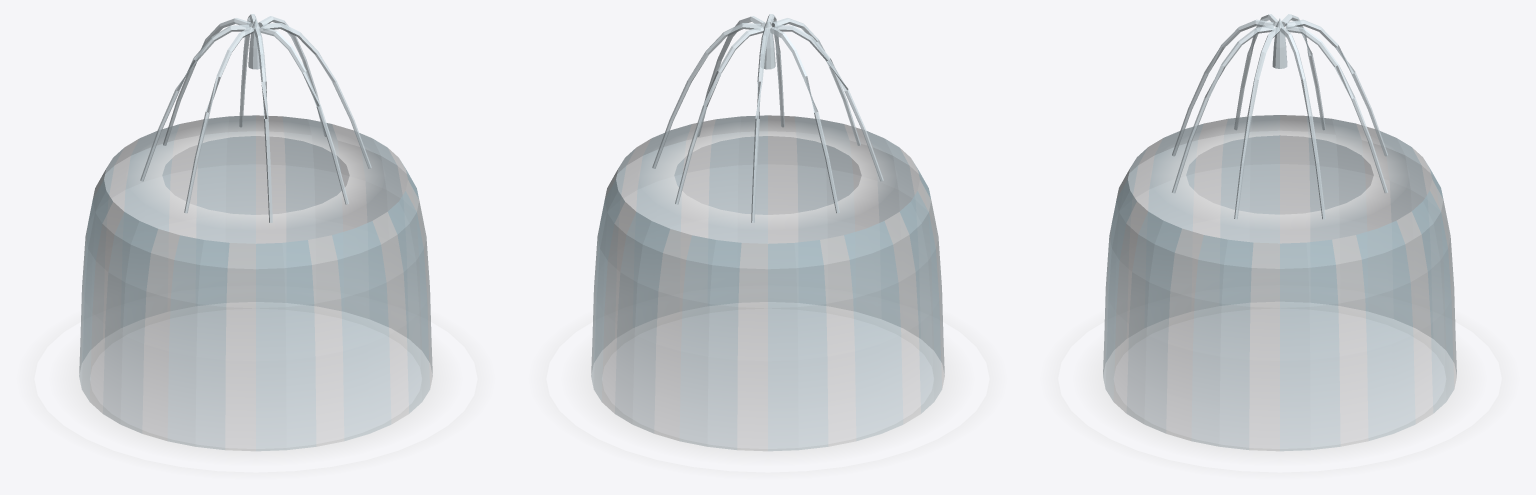
The model's file is fountain_water.glb.
3 renders of one model, left to right at view 1: azimuth 30°, elevation 25°; view 2: azimuth 150°, elevation 25°; view 3: azimuth 270°, elevation 25°, orthographic.
Visible parts, largest first — view 1: fall, ripple, ripple_top, jet; view 2: fall, ripple, ripple_top, jet; view 3: fall, ripple, jet, ripple_top.
Boxes of the visible parts, x1,y1,x2,y2 form: fall: (79, 115, 432, 450); ripple: (23, 302, 488, 476); ripple_top: (134, 124, 377, 226); jet: (140, 14, 371, 222); fall: (591, 115, 944, 450); ripple: (535, 302, 1000, 476); ripple_top: (646, 124, 889, 226); jet: (652, 14, 883, 222); fall: (1103, 115, 1456, 450); ripple: (1047, 301, 1512, 476); jet: (1172, 14, 1387, 219); ripple_top: (1157, 123, 1402, 226).
Bounding box in the file's own units: 3.4 × 2.8 × 3.4.
